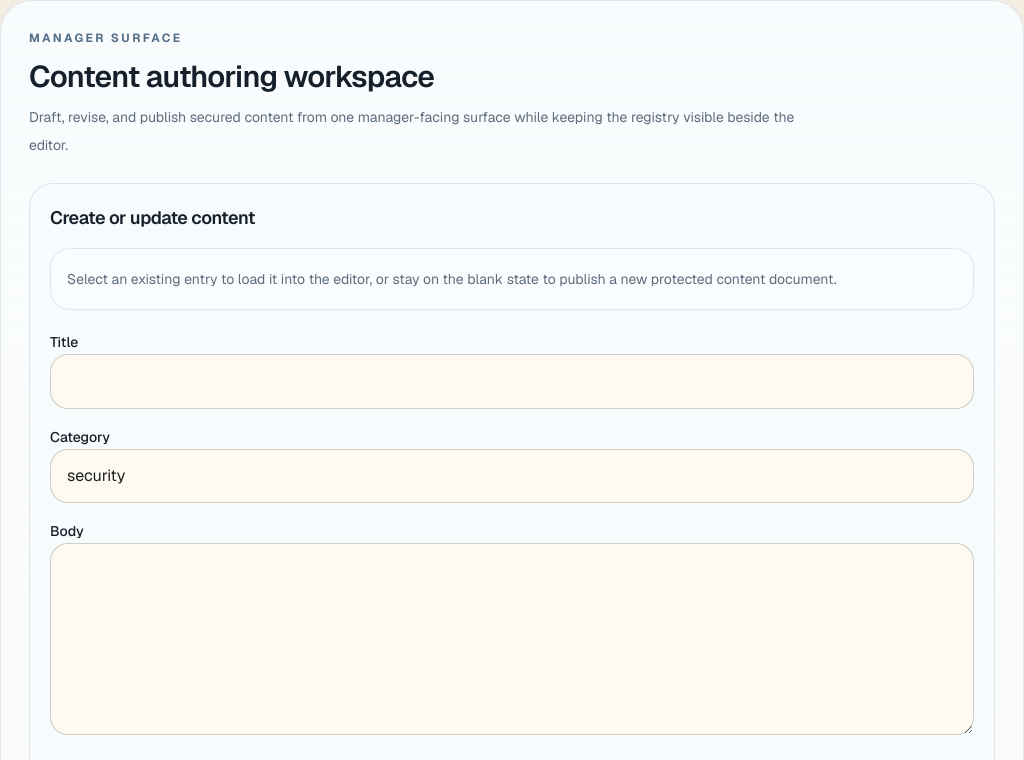
ManageContentClient › creates content with the Server Action and refreshes the route after success
This screenshot has width=1024, height=760.
Type "Refresh Rotation" into the field labelled "Title" at (512, 381), box [50,354,974,409]
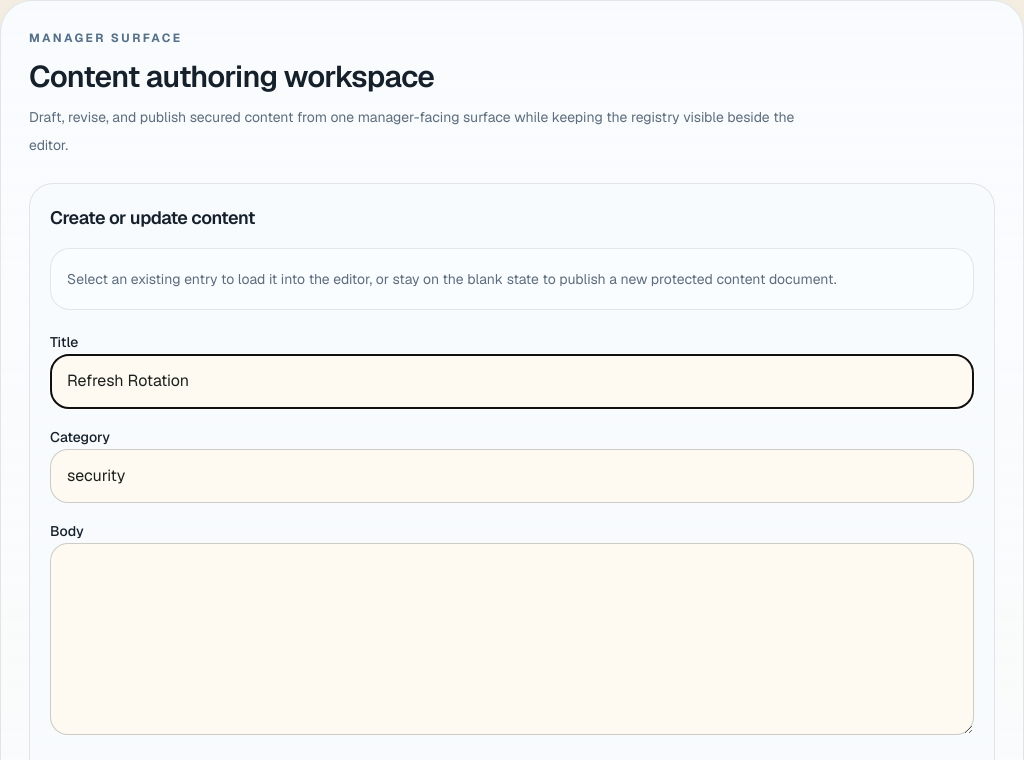
Replace the text in the field labelled "Category" with "tokens" at (512, 476), box [50,448,974,503]
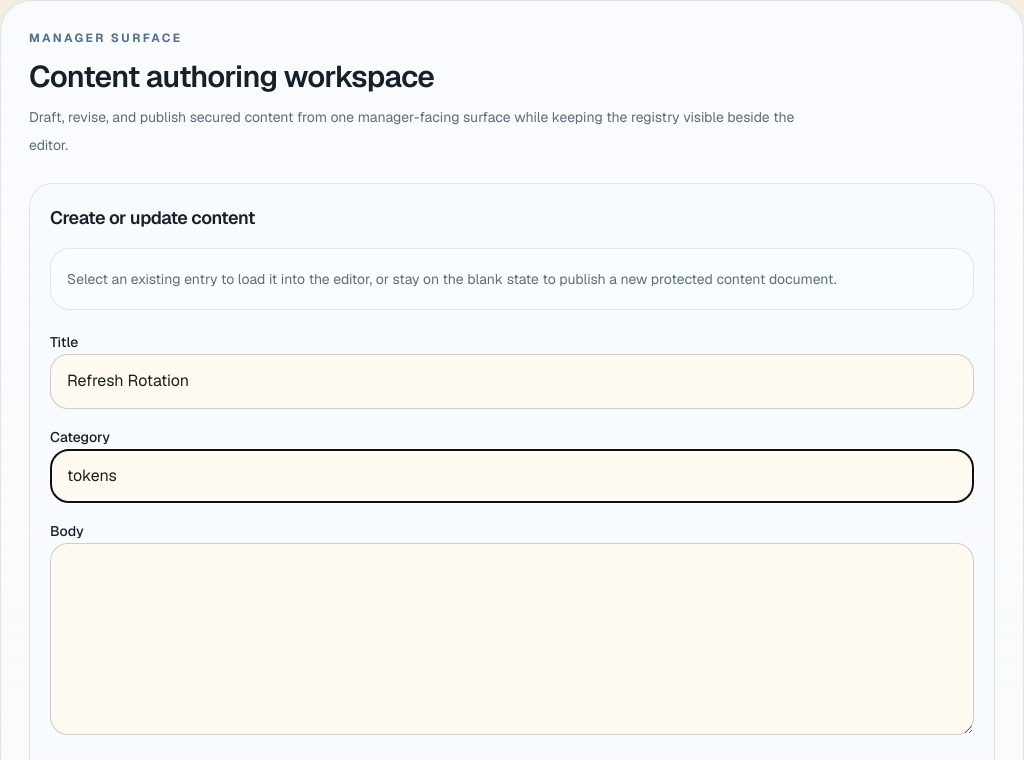
Type "Rotate the refresh token before it is too close to expiry." into the text box labelled "Body" at (512, 639), box [50,543,974,735]
(page scrolled)
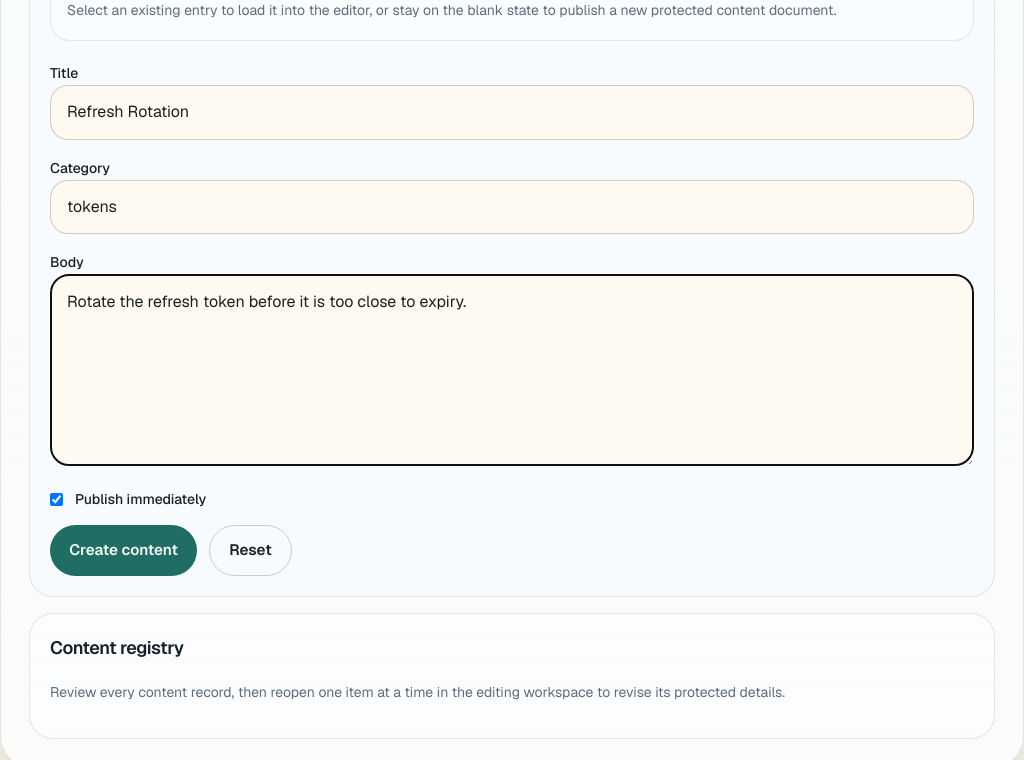
Click the button "Create content" at (124, 550), box [50,525,197,576]
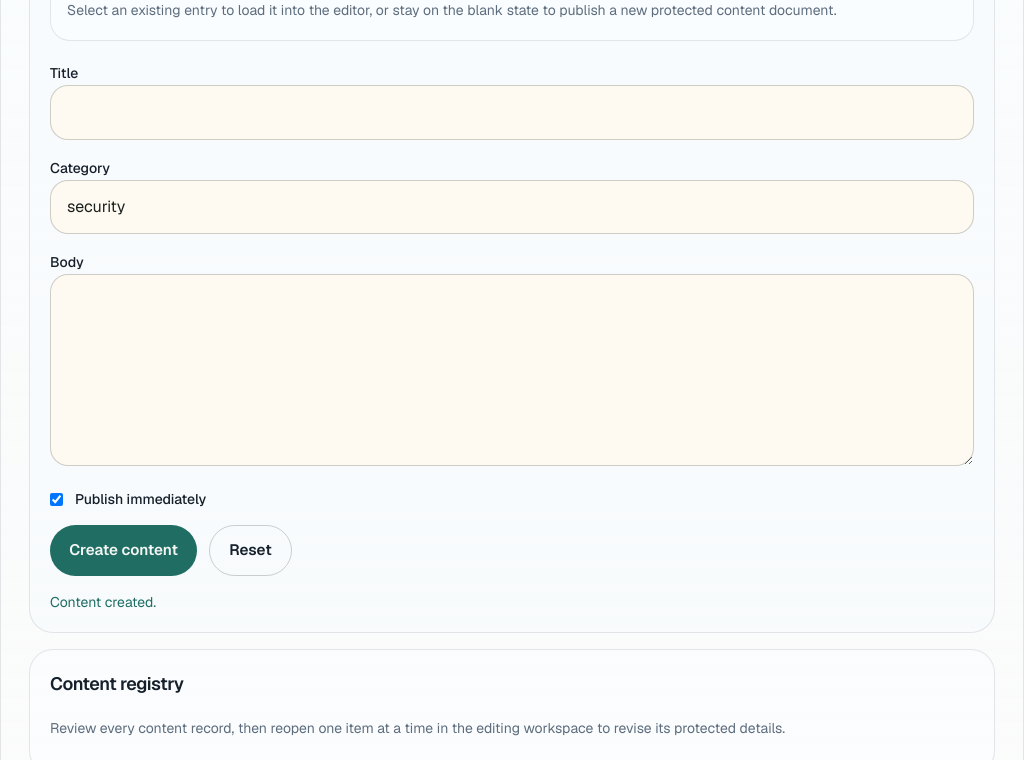
Now the text "Content created." is shown, box [50,593,156,611]
